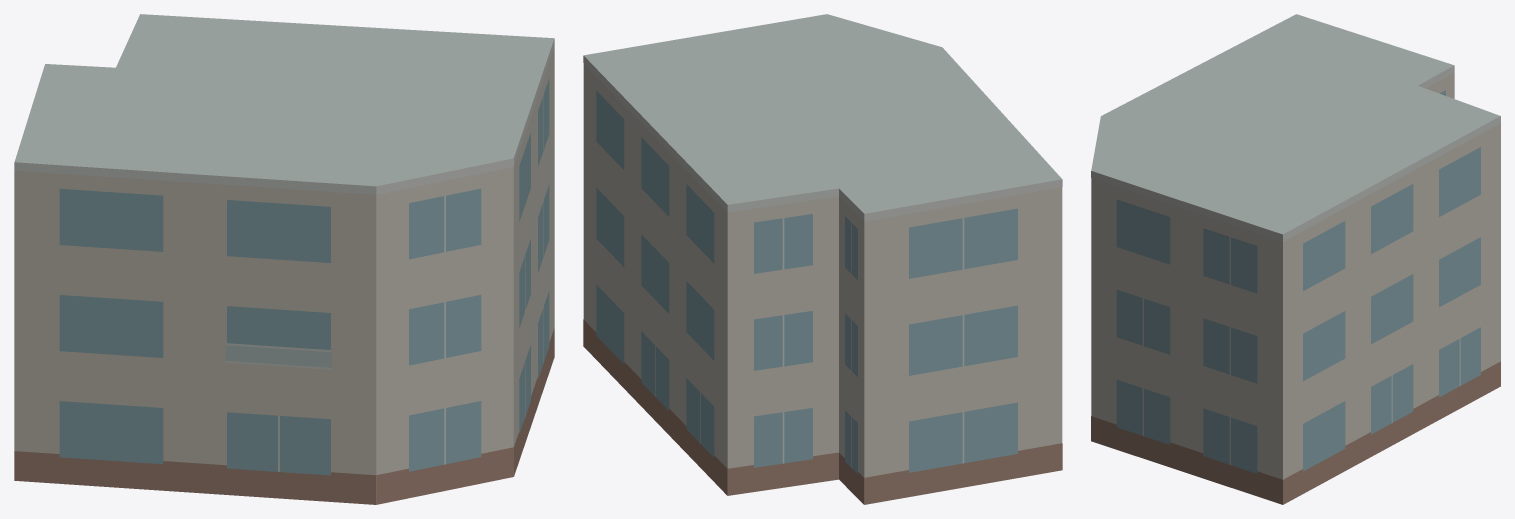
Rendered from survey-upis-32853459.glb.
The picture shows the model from 3 angles, left to right: view 1: azimuth 30°, elevation 25°; view 2: azimuth 150°, elevation 25°; view 3: azimuth 270°, elevation 25°; orthographic projection. The views are drawn at different scales.
Visible parts, largest first — view 1: survey-upis-32853459.tmp; view 2: survey-upis-32853459.tmp; view 3: survey-upis-32853459.tmp.
Boxes of the visible parts, bbox=[...] form: survey-upis-32853459.tmp: bbox=[14, 14, 554, 504]; survey-upis-32853459.tmp: bbox=[583, 14, 1062, 504]; survey-upis-32853459.tmp: bbox=[1091, 14, 1500, 504].
Size of the model in its own units: 16.01 by 9.15 by 12.57.
